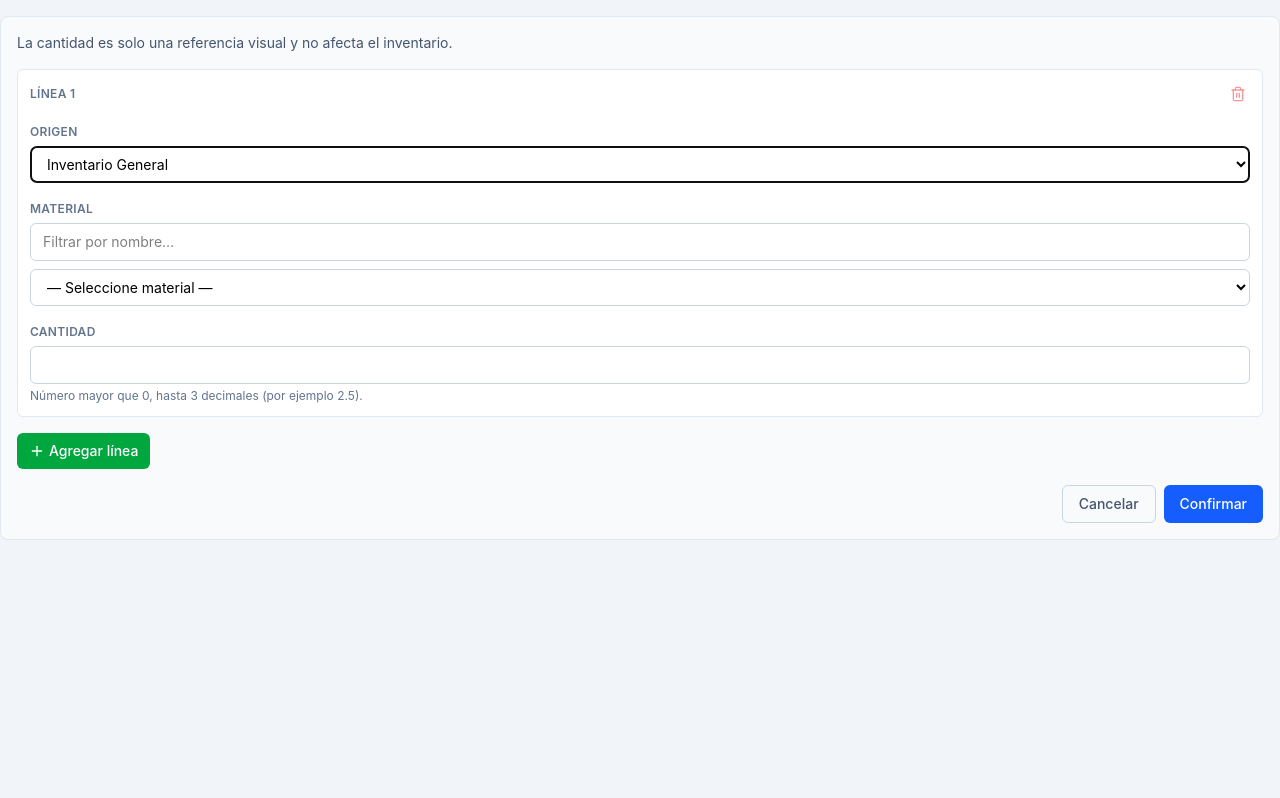
ReferenciaAgregarForm — validación (REQ-REF-006/007) › quitar una línea: mínimo UNA línea (botón deshabilitado)
Click the button "Agregar línea": [84, 451] box [17,433,150,469]
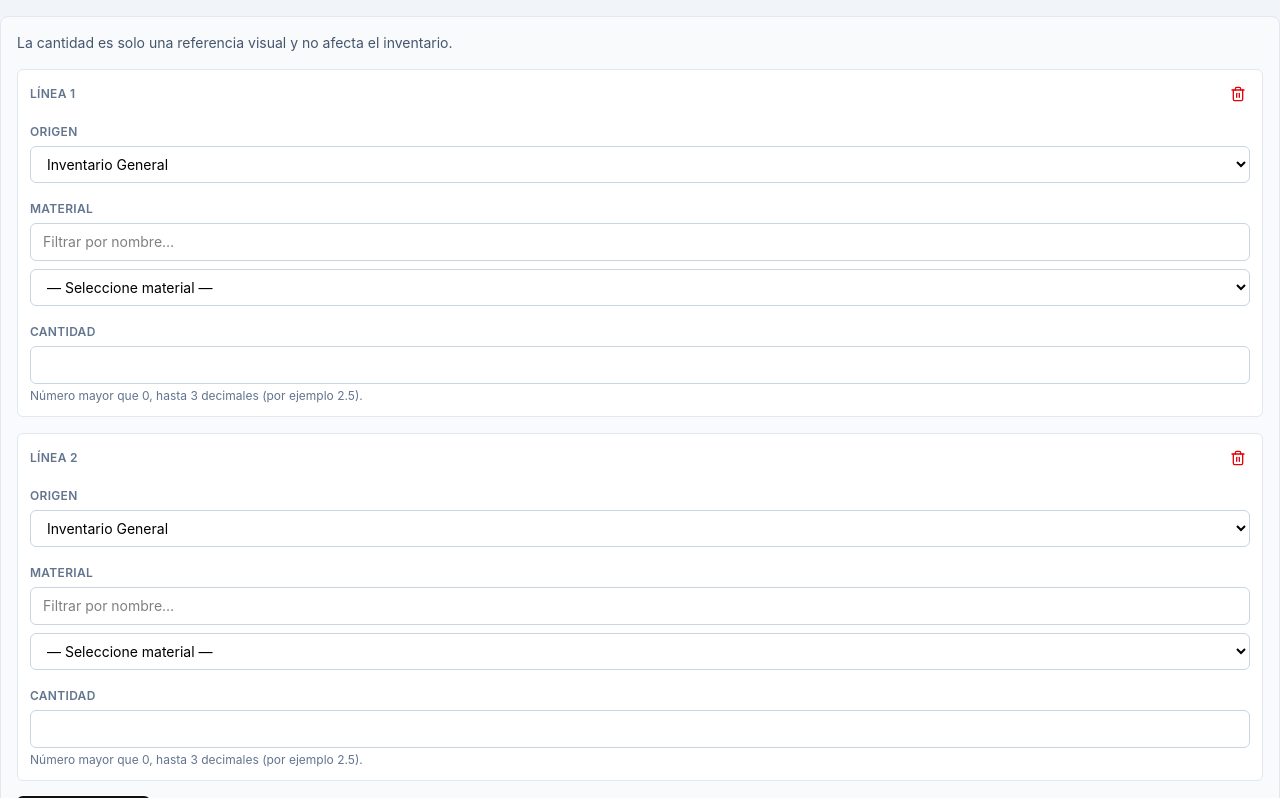
Now the text "Línea 2" is shown, box [30,450,78,466]
Click the button named "Quitar línea 2": [1238, 458] box [1226,446,1250,470]
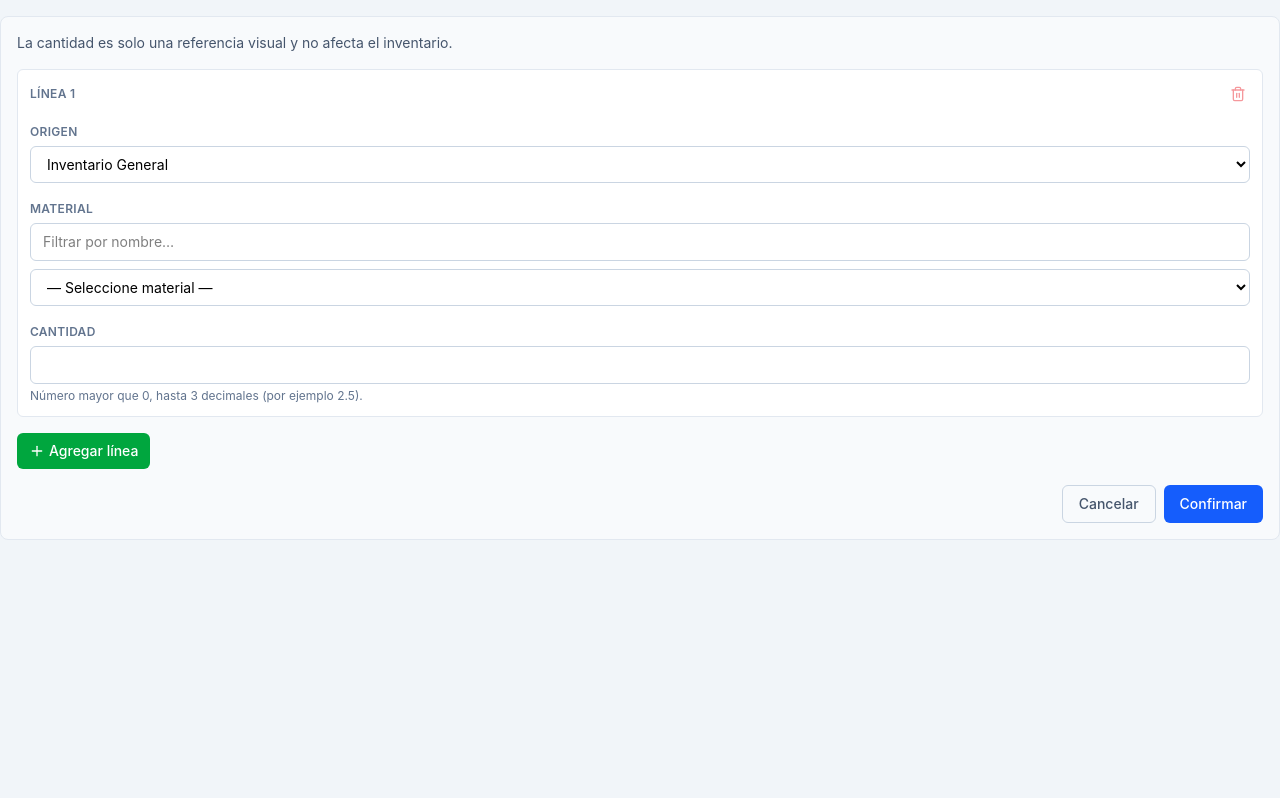
Now the text "Línea 2" is gone
Now the button named "Quitar línea 1" is disabled, box [1226,82,1250,106]
